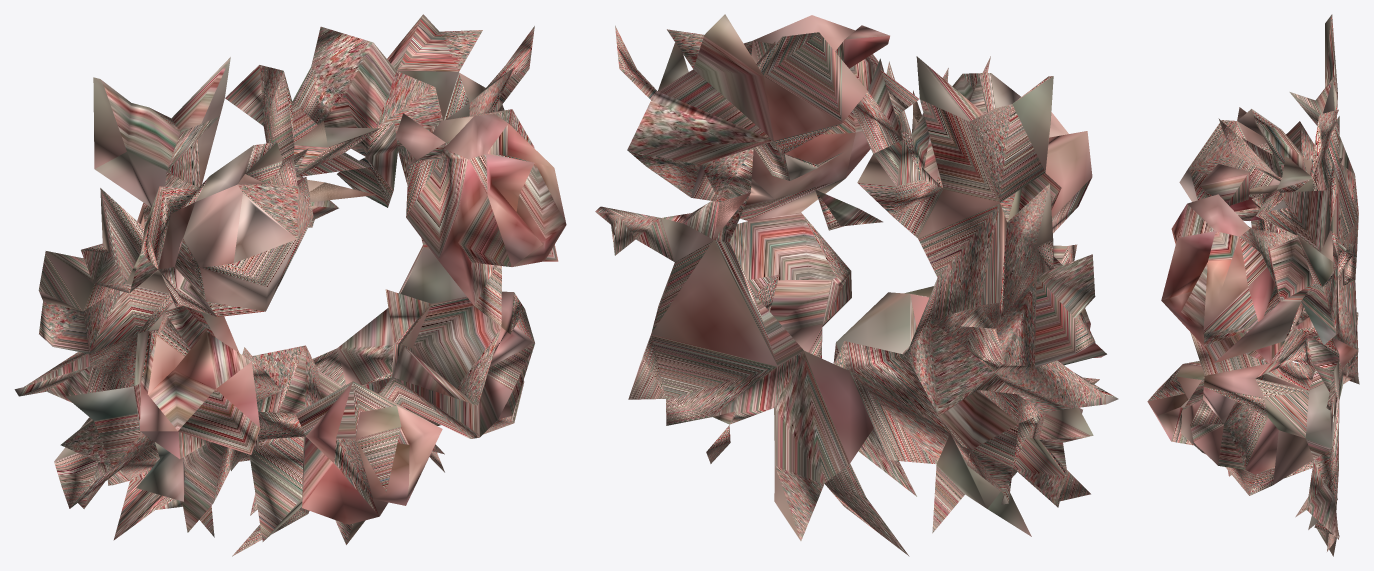
The picture shows the model from 3 angles, left to right: view 1: azimuth 30°, elevation 25°; view 2: azimuth 150°, elevation 25°; view 3: azimuth 270°, elevation 25°; orthographic projection. The views are drawn at different scales.
Visible parts, largest first — view 1: Rose-Frame-10-31; view 2: Rose-Frame-10-31; view 3: Rose-Frame-10-31.
Part boxes in pixels (x1=…): Rose-Frame-10-31: x1=14, y1=14, x2=566, y2=556; Rose-Frame-10-31: x1=595, y1=14, x2=1118, y2=556; Rose-Frame-10-31: x1=1147, y1=14, x2=1359, y2=556.
Bounding box in the file's own units: 0.3054 × 0.2907 × 0.127.
1 material, 1 textured.
